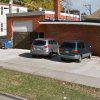Car: (24, 33, 92, 68)
